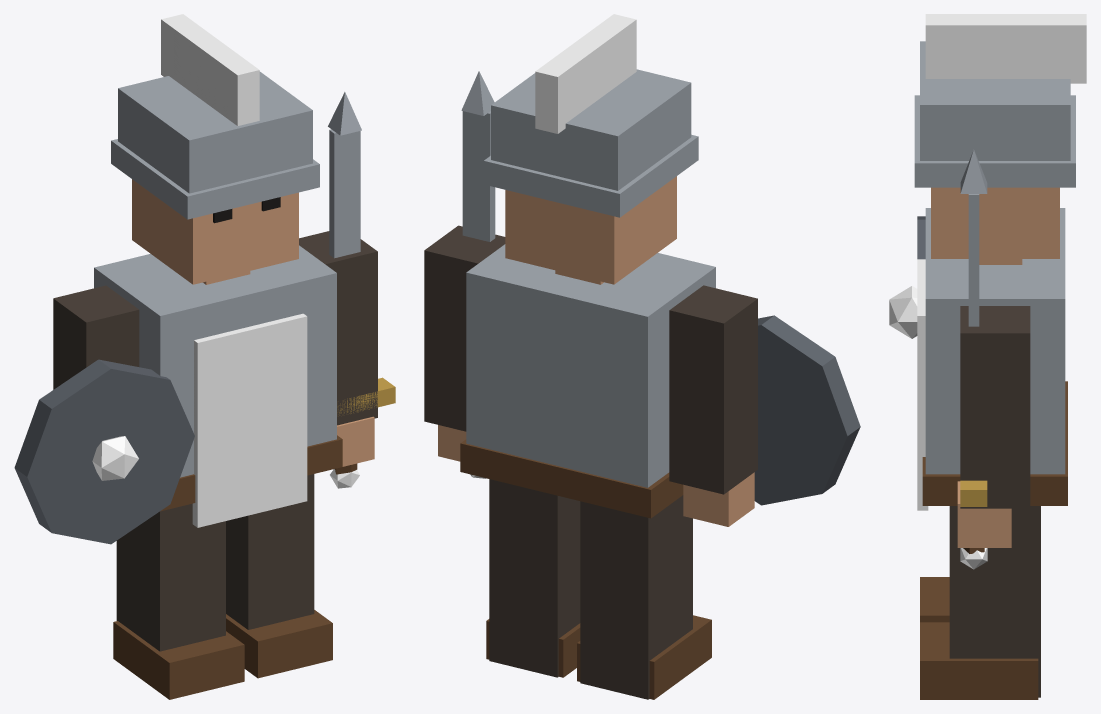
The model's file is fighter.glb.
3 views of the same model, side by side, from view 1: azimuth 30°, elevation 25°; view 2: azimuth 150°, elevation 25°; view 3: azimuth 270°, elevation 25° (orthographic). The views are drawn at different scales.
Parts seen in each view (by area): view 1: body, armL, armR, weapon; view 2: body, armL, armR, weapon; view 3: body, armR, weapon, armL.
Part boxes in pixels (x1,y1,x2,y2): body: (94, 14, 342, 699); armL: (14, 285, 194, 544); armR: (299, 231, 377, 466); weapon: (328, 92, 395, 488); body: (460, 14, 715, 699); armL: (669, 285, 860, 526); armR: (424, 225, 505, 461); weapon: (461, 71, 495, 478); body: (914, 14, 1086, 699); armR: (957, 306, 1030, 547); weapon: (960, 149, 987, 569); armL: (889, 216, 925, 338).
Size of the model in its own units: 0.88 by 1.31 by 0.3675.
